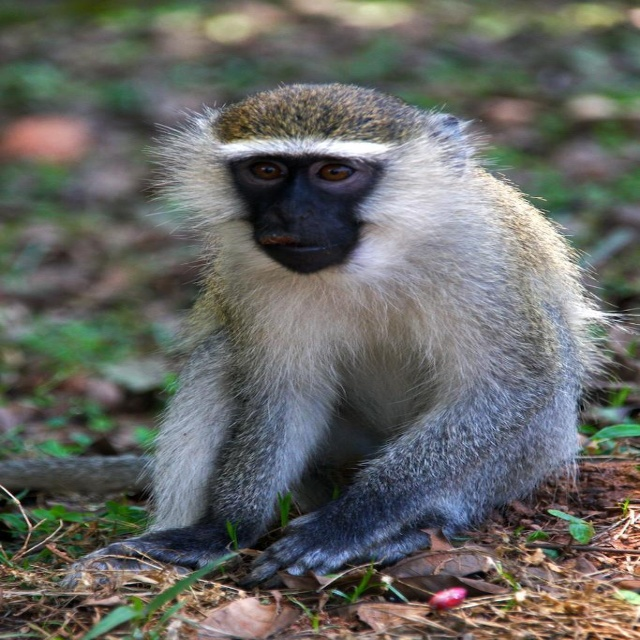Monkey: (56, 80, 640, 592)
